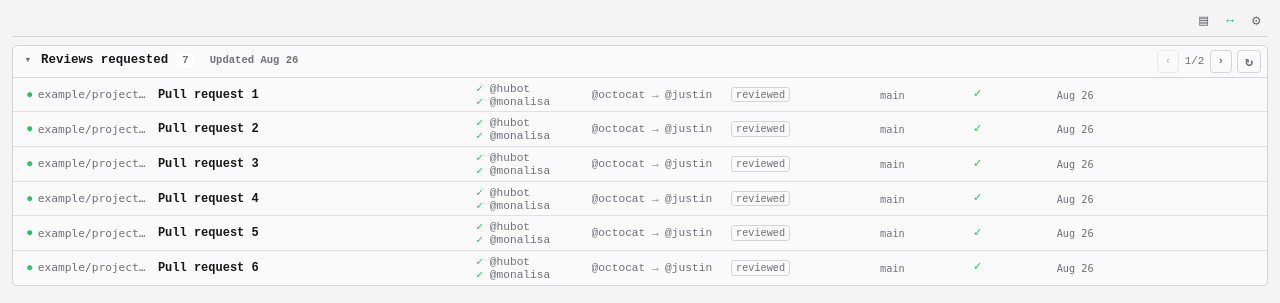
DashboardPage › paginates each section using its configured item count
This screenshot has width=1280, height=303.
Expected: the link "Pull request 1" is shown, [158,88,259,102]
Expected: the text "Pull request 7" is not shown
Click the button named "Next page".
click(1221, 61)  # box [1210,50,1232,73]
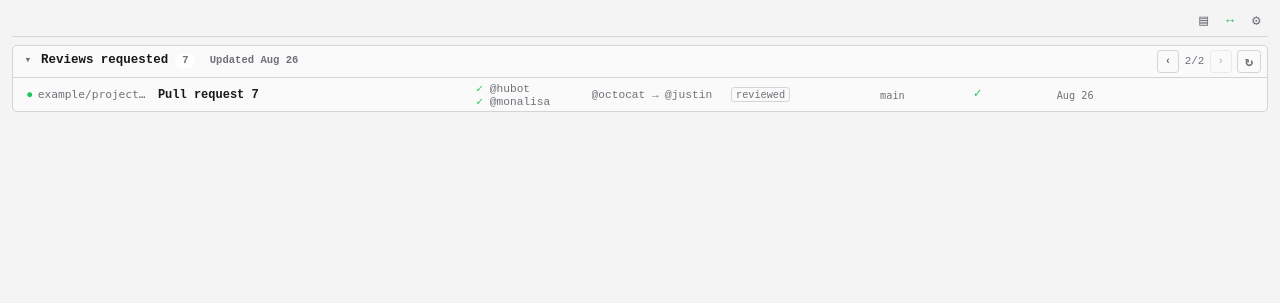
Expected: the link "Pull request 1" is gone
Expected: the link "Pull request 7" is shown, [158,88,259,102]
